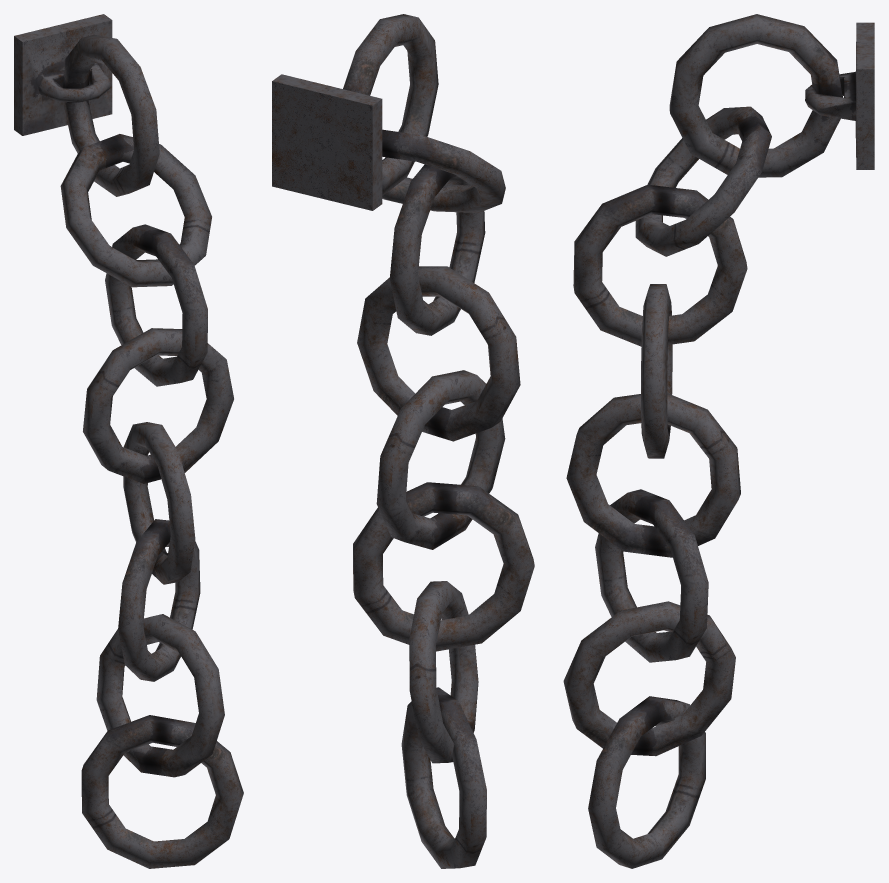
Rendered from Castle Wall Ring Chain 02.fbx.
3 renders of one model, left to right at view 1: azimuth 30°, elevation 25°; view 2: azimuth 150°, elevation 25°; view 3: azimuth 270°, elevation 25°, orthographic. The views are drawn at different scales.
Visible parts, largest first — view 1: Cube; view 2: Cube; view 3: Cube.
Boxes of the visible parts, left/top/right/bottom form: Cube: left=14, top=14, right=243, bottom=868; Cube: left=272, top=14, right=534, bottom=868; Cube: left=563, top=14, right=874, bottom=868.
Size of the model in its own units: 39.18 by 206 by 68.84.
